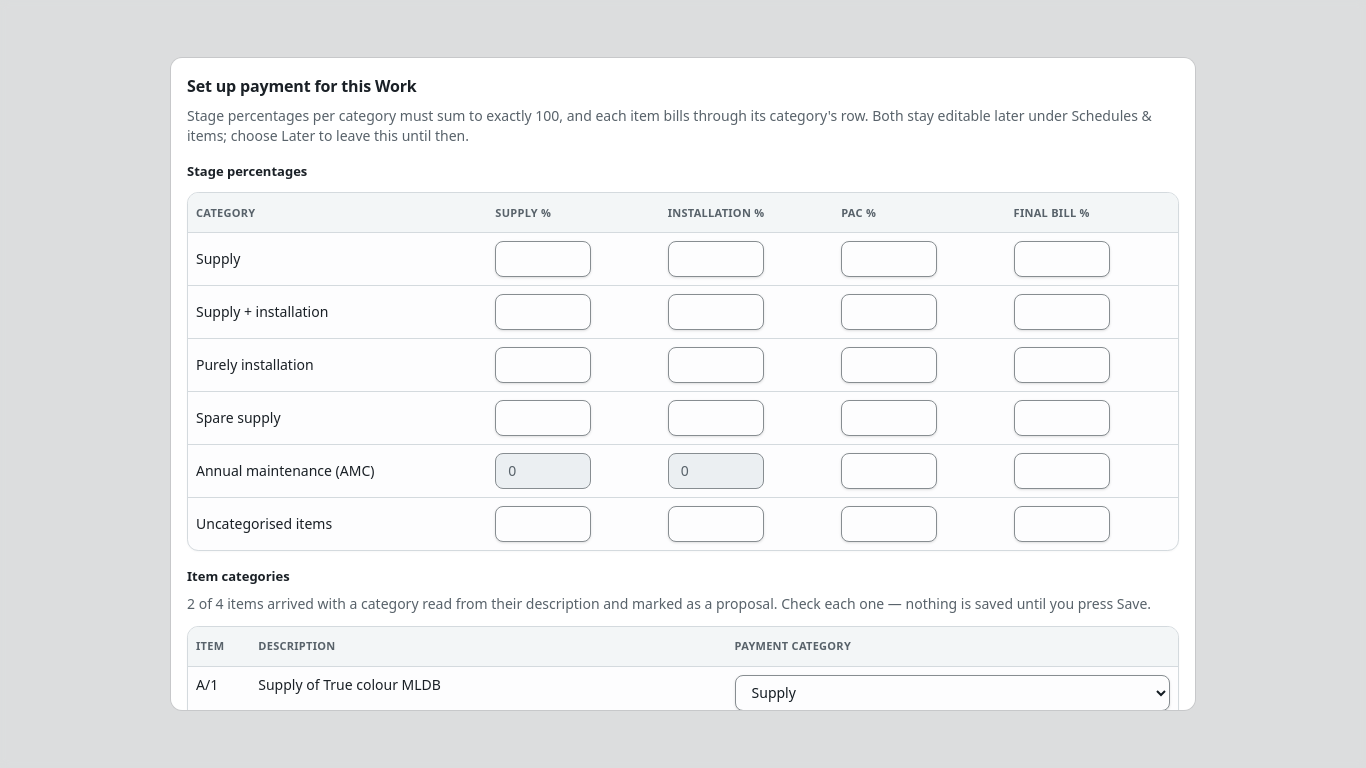
Test: WorkPaymentSetup › holds Save while a partly filled row cannot sum to 100
In the field named "Supply % for Supply": (543, 259) [495,241,591,277], type "80"
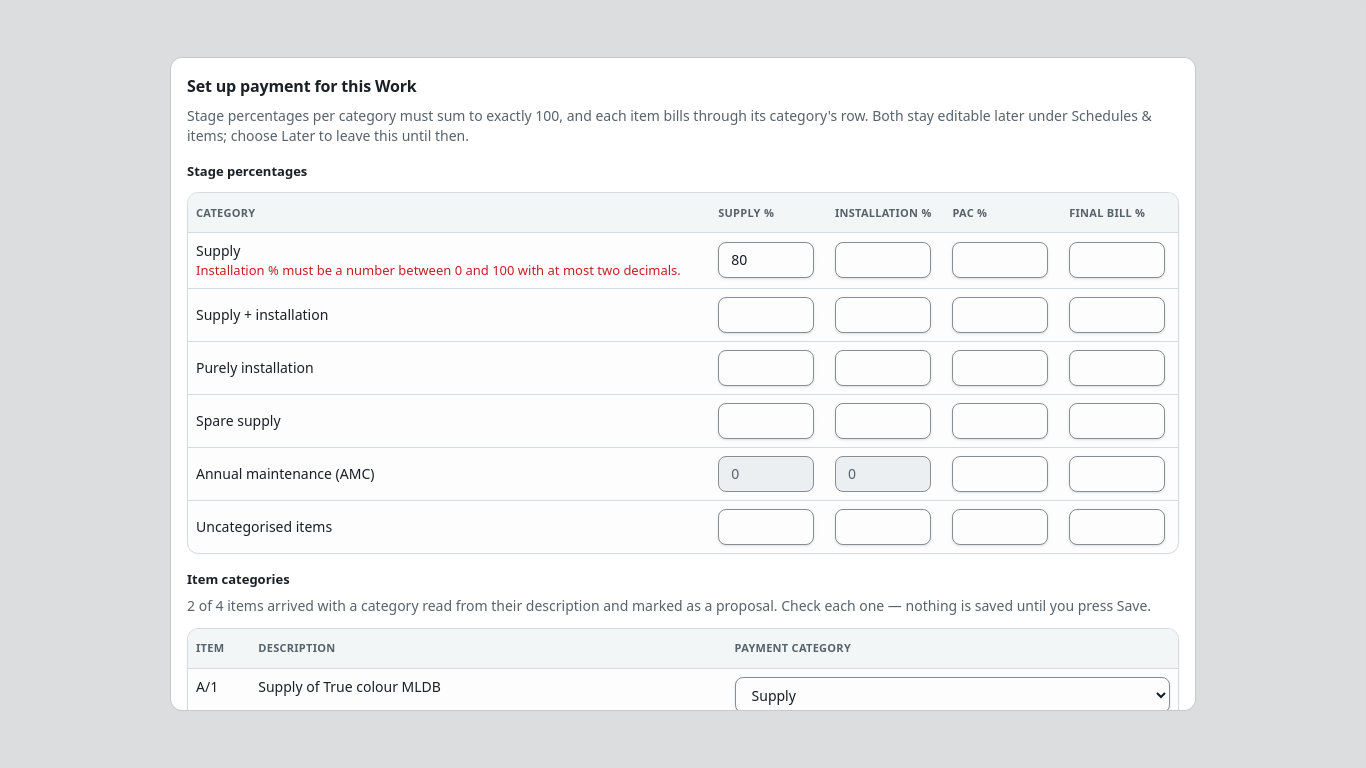
Expected: the message shows "Installation % must be a number", [196,261,681,279]
